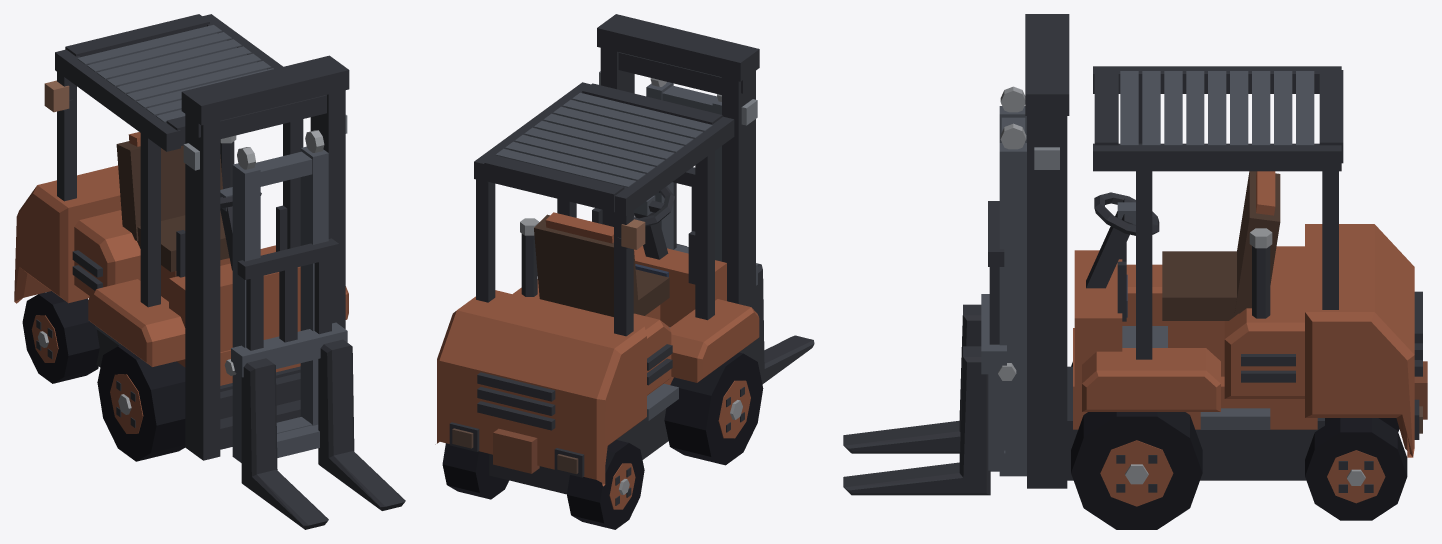
Rendered from cargo-loader-a3da44.glb.
3 views of the same model, side by side, from view 1: azimuth 30°, elevation 25°; view 2: azimuth 150°, elevation 25°; view 3: azimuth 270°, elevation 25° (orthographic). The views are drawn at different scales.
Visible parts, largest first — view 1: cargo-loader, fork-tines, fork-carriage, wheel-fl, wheel-rl; view 2: cargo-loader, wheel-fl, wheel-rl, wheel-rr, fork-tines, fork-carriage; view 3: cargo-loader, wheel-fr, fork-tines, wheel-rr, fork-carriage.
Part boxes in pixels (box(x1,y1,x2,y2)): cargo-loader: box(14, 14, 349, 462); fork-tines: box(241, 339, 405, 529); fork-carriage: box(224, 238, 347, 461); wheel-fl: box(97, 345, 185, 461); wheel-rl: box(22, 291, 99, 383); cargo-loader: box(435, 14, 759, 494); wheel-fl: box(664, 352, 763, 465); wheel-rl: box(567, 439, 644, 529); wheel-rr: box(442, 443, 508, 499); fork-tines: box(677, 244, 814, 384); fork-carriage: box(673, 167, 757, 285); cargo-loader: box(999, 14, 1427, 488); wheel-fr: box(1071, 412, 1202, 529); fork-tines: box(843, 304, 990, 495); wheel-rr: box(1305, 418, 1407, 520); fork-carriage: box(981, 201, 1016, 471).
Bounding box in the file's own units: 1.43 × 2.55 × 3.19.
